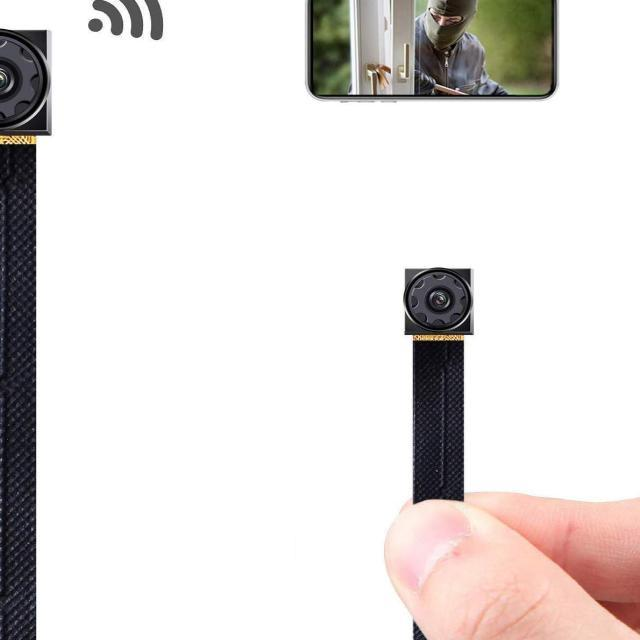hidden camera: (0, 27, 56, 142), (397, 267, 470, 337)
